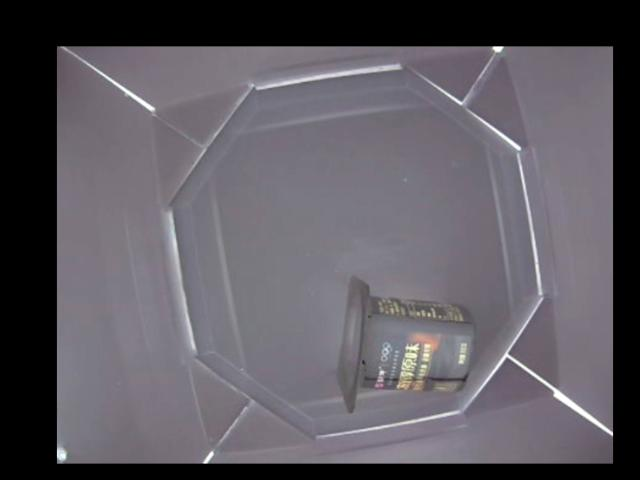Cup: (333, 275, 473, 407)
